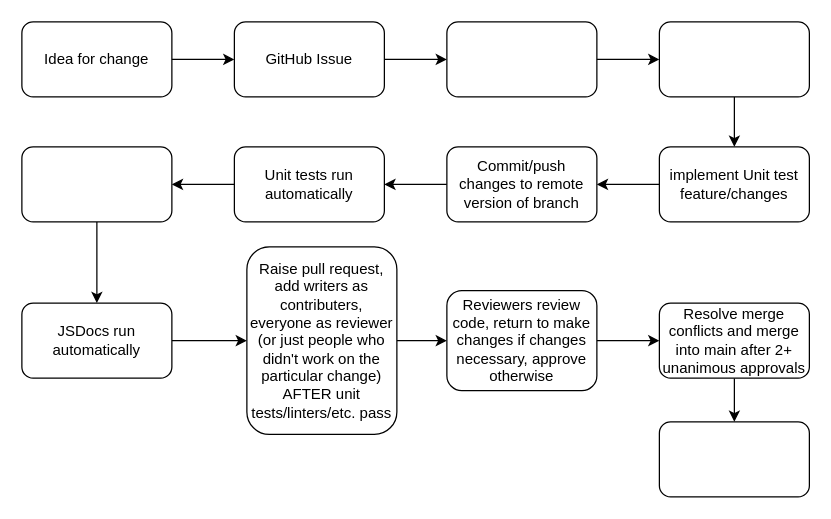
Image size: 831x519. Some labels were removed from this diagram. The shapes that lost their labels are listed below. From the top down, each one's centre as x and y in pixels, then its label:
point (521, 59): Create branch and publish
point (733, 59): Make changes
point (96, 184): Linters run automatically
point (733, 459): Integration tests as a separate change later
